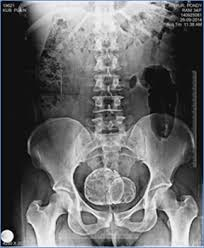Uterine fibroids: (83, 167, 138, 206)
